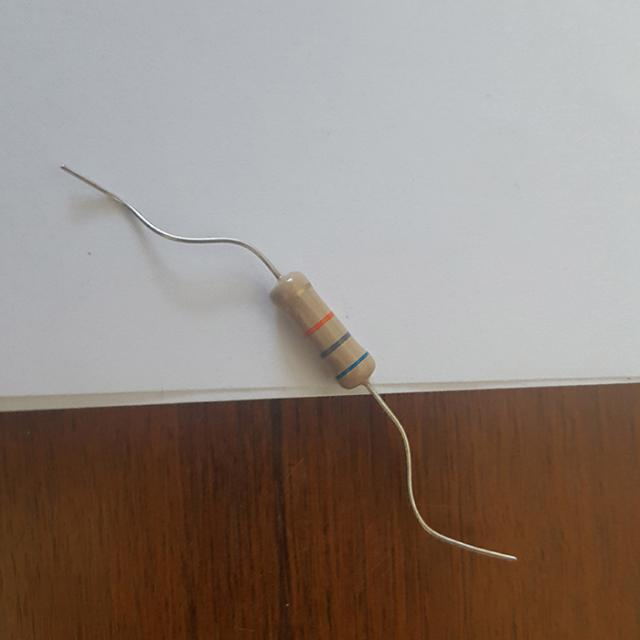blue: (335, 350, 368, 379)
gold: (283, 283, 309, 303)
grey: (321, 331, 350, 357)
orange: (305, 312, 334, 334)
resistor: (250, 253, 390, 407)
